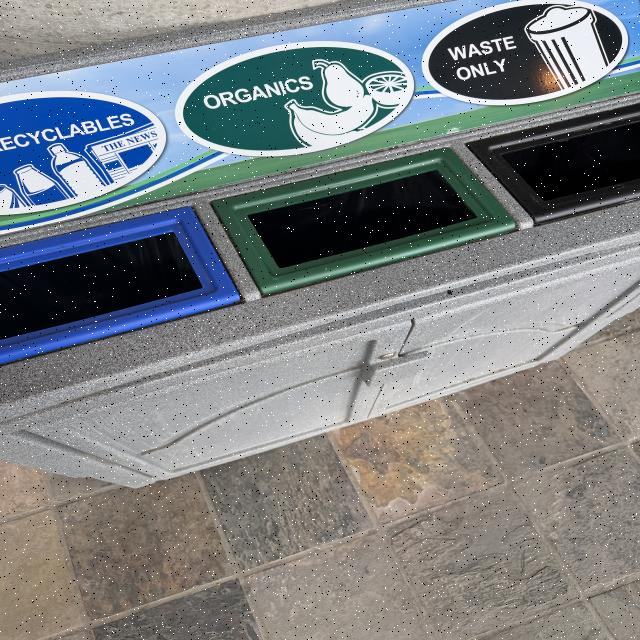Dustbin: (1, 0, 639, 495)
